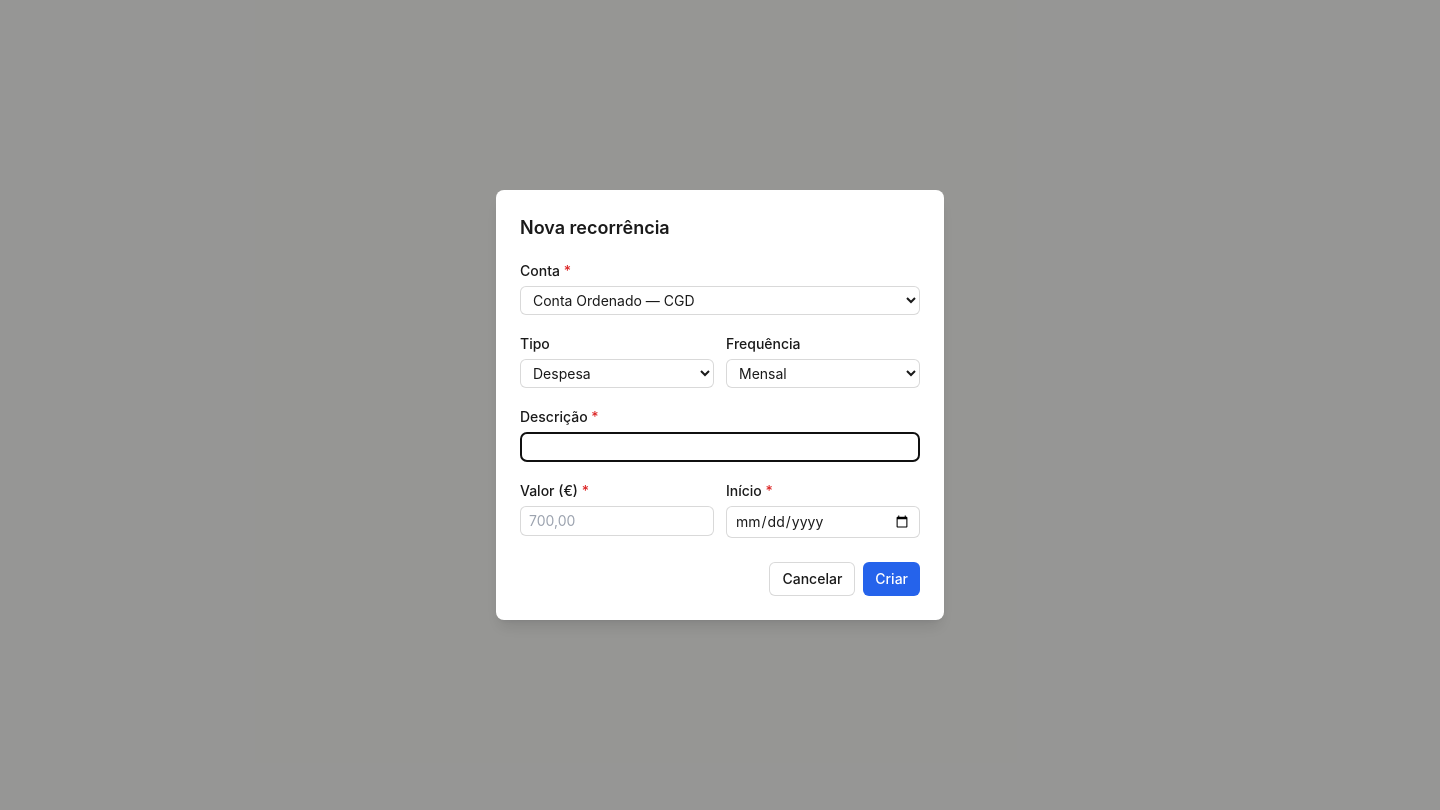
Test: <NewRecurrenceModal> › valor inválido bloqueia submit e mostra erro — sem POST
Check: the dropdown named "Conta associada" is enabled, box x1=520 y1=286 x2=920 y2=315
Type "Renda" into the field labelled "Descrição" at (720, 447), box x1=520 y1=432 x2=920 y2=462
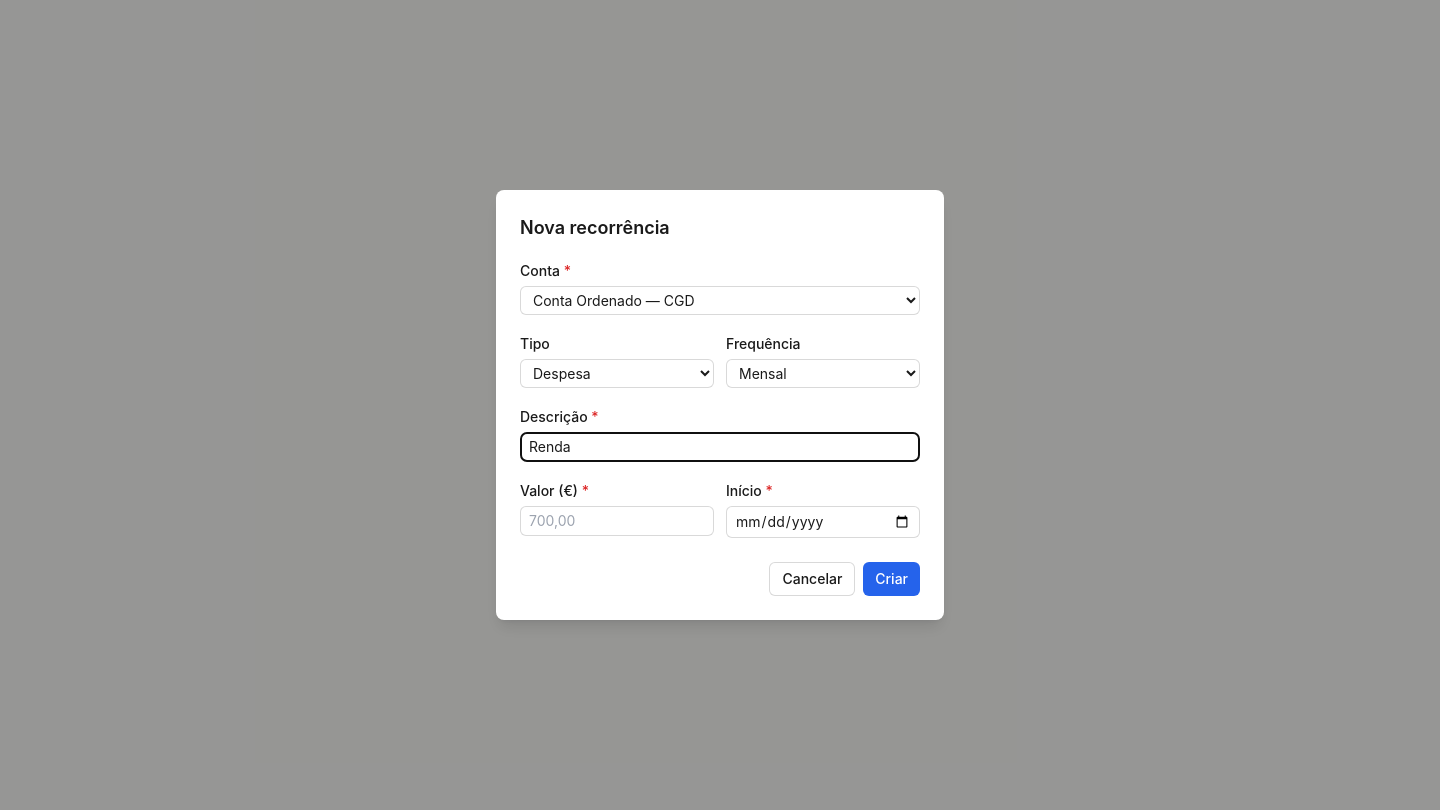
Type "abc" into the field named "Valor em euros" at (617, 521), box x1=520 y1=506 x2=714 y2=536
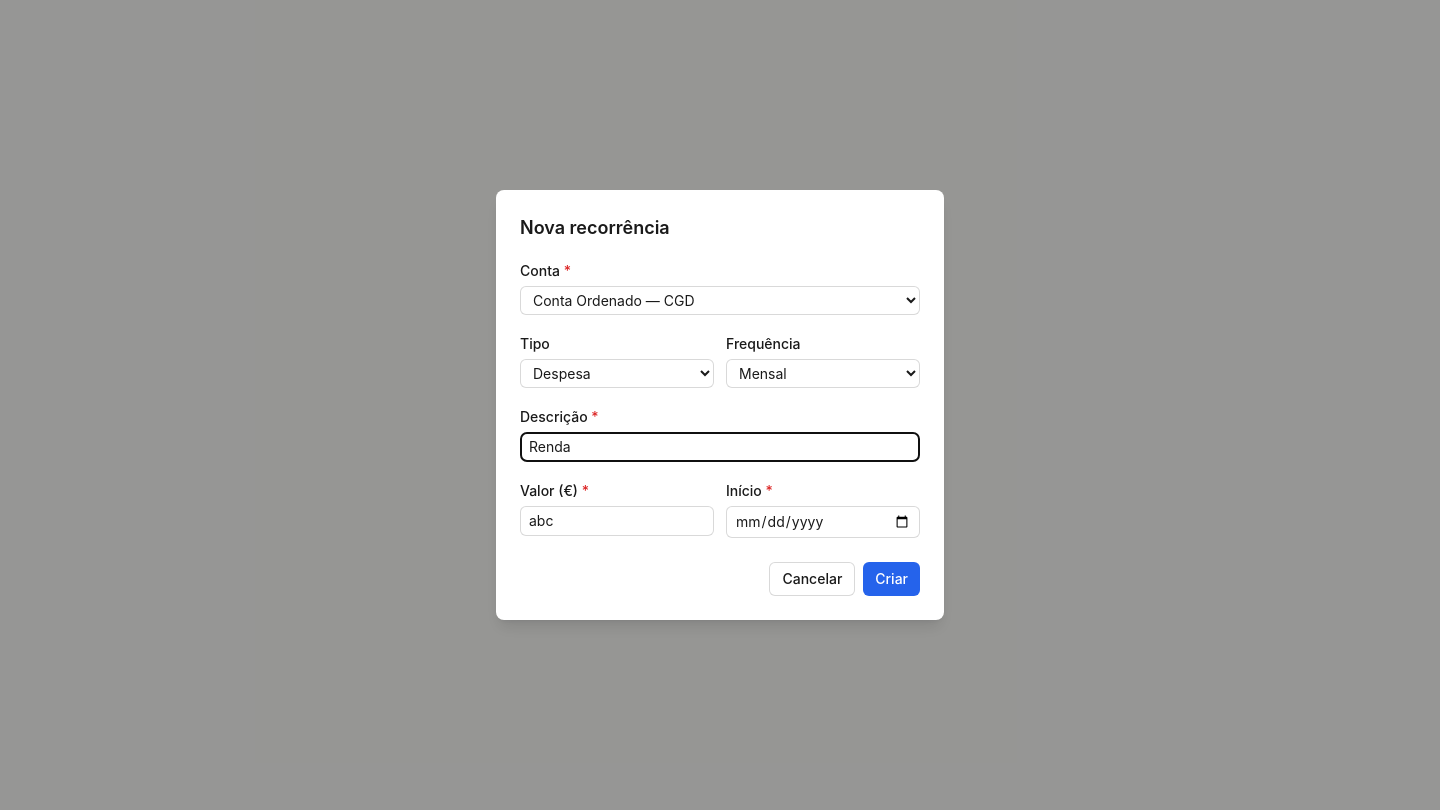
Click the button "Criar" at (892, 579), box x1=863 y1=562 x2=920 y2=596
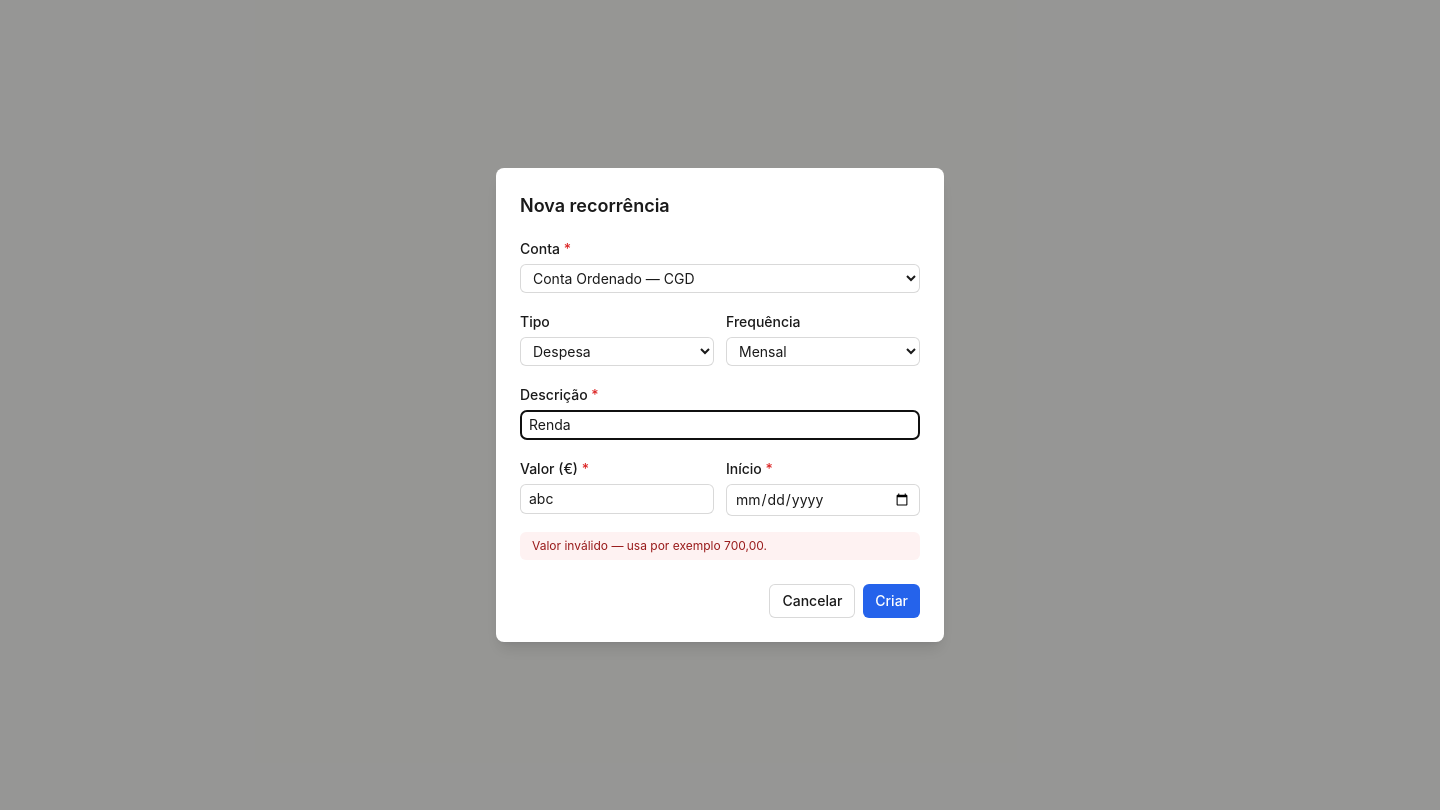
Check: the message shows "Valor inválido", box x1=532 y1=538 x2=767 y2=553
